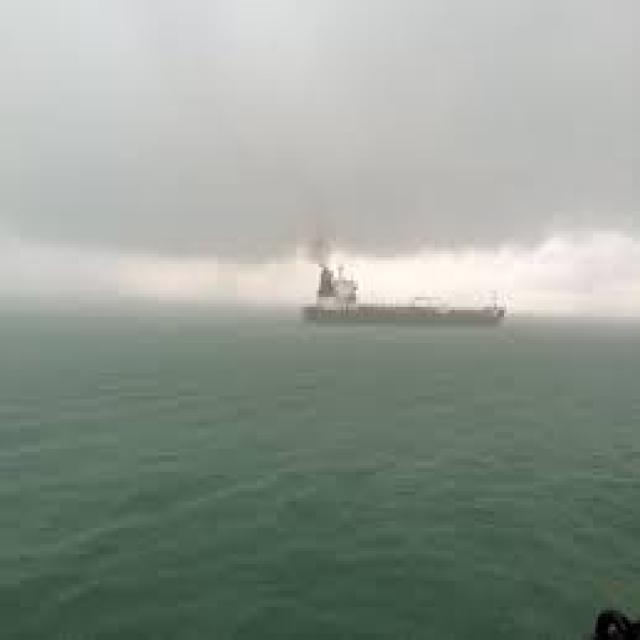cargoship: (298, 257, 516, 331)
